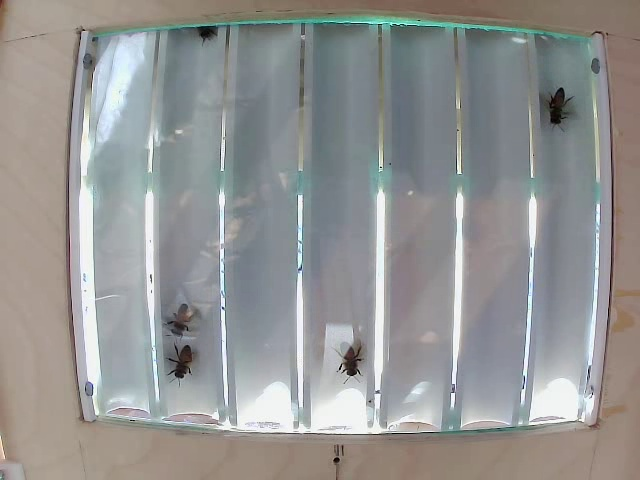bee: (331, 329, 373, 383), (539, 81, 567, 129), (165, 301, 199, 338), (165, 348, 193, 385)
